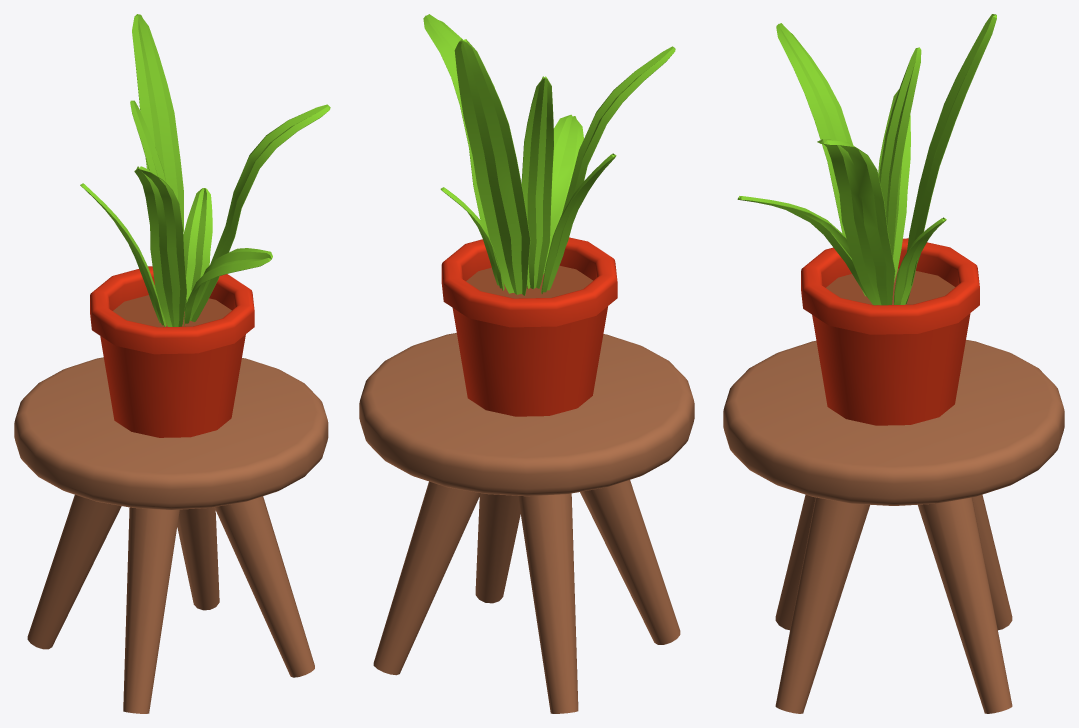
The model's file is Flover Table.fbx.
3 views of the same model, side by side, from view 1: azimuth 30°, elevation 25°; view 2: azimuth 150°, elevation 25°; view 3: azimuth 270°, elevation 25° (orthographic). The views are drawn at different scales.
Visible parts, largest first — view 1: Cylinder.008, Cylinder.017, Cylinder.003, Circle.005, Circle.003, Circle.004, Circle.009, Circle.007, Circle.006, Circle.008; view 2: Cylinder.008, Cylinder.017, Cylinder.003, Circle.003, Circle.008, Circle.005, Circle.007, Circle.006, Circle.004, Circle.009; view 3: Cylinder.008, Cylinder.003, Cylinder.017, Circle.004, Circle.003, Circle.005, Circle.008, Circle.007, Circle.006, Circle.009.
Part boxes in pixels (x1=…): Cylinder.008: x1=14, y1=357, x2=328, y2=509; Cylinder.017: x1=27, y1=494, x2=314, y2=713; Cylinder.003: x1=90, y1=266, x2=254, y2=437; Circle.005: x1=134, y1=166, x2=186, y2=326; Circle.003: x1=132, y1=14, x2=183, y2=234; Circle.004: x1=191, y1=104, x2=330, y2=321; Circle.009: x1=183, y1=188, x2=212, y2=310; Circle.007: x1=184, y1=248, x2=272, y2=326; Circle.006: x1=80, y1=183, x2=166, y2=326; Circle.008: x1=130, y1=100, x2=166, y2=182; Cylinder.008: x1=359, y1=333, x2=694, y2=496; Cylinder.017: x1=373, y1=480, x2=680, y2=713; Cylinder.003: x1=441, y1=237, x2=617, y2=416; Circle.003: x1=454, y1=39, x2=530, y2=295; Circle.008: x1=521, y1=76, x2=553, y2=289; Circle.005: x1=562, y1=46, x2=675, y2=245; Circle.007: x1=543, y1=114, x2=583, y2=274; Circle.006: x1=541, y1=153, x2=616, y2=293; Circle.004: x1=423, y1=14, x2=494, y2=230; Circle.009: x1=440, y1=187, x2=504, y2=290; Cylinder.008: x1=723, y1=339, x2=1064, y2=505; Cylinder.003: x1=801, y1=238, x2=979, y2=425; Cylinder.017: x1=775, y1=494, x2=1012, y2=713; Circle.004: x1=817, y1=139, x2=895, y2=305; Circle.003: x1=906, y1=14, x2=996, y2=303; Circle.005: x1=776, y1=23, x2=865, y2=296; Circle.008: x1=879, y1=47, x2=921, y2=257; Circle.007: x1=737, y1=196, x2=868, y2=298; Circle.006: x1=878, y1=89, x2=910, y2=282; Circle.009: x1=894, y1=217, x2=946, y2=304.
Size of the model in its own units: 31.67 by 67.77 by 31.67.
